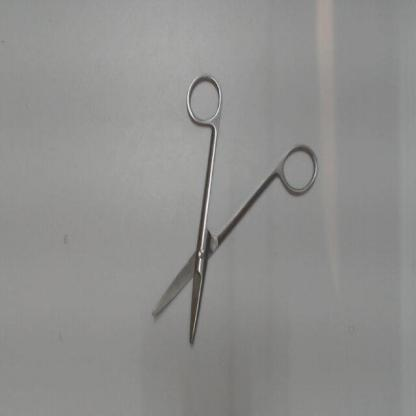Curved Mayo Scissors: (142, 67, 324, 354)
